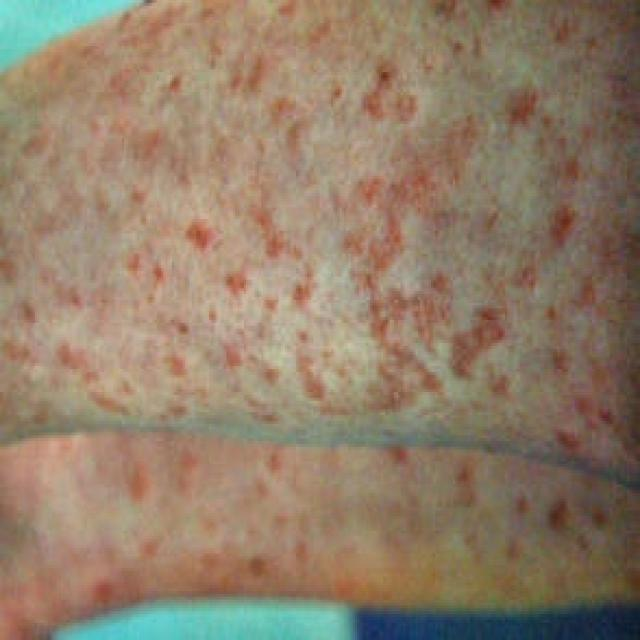Warts-Molluscum-and-other-Viral-Infections: (52, 50, 622, 458)
